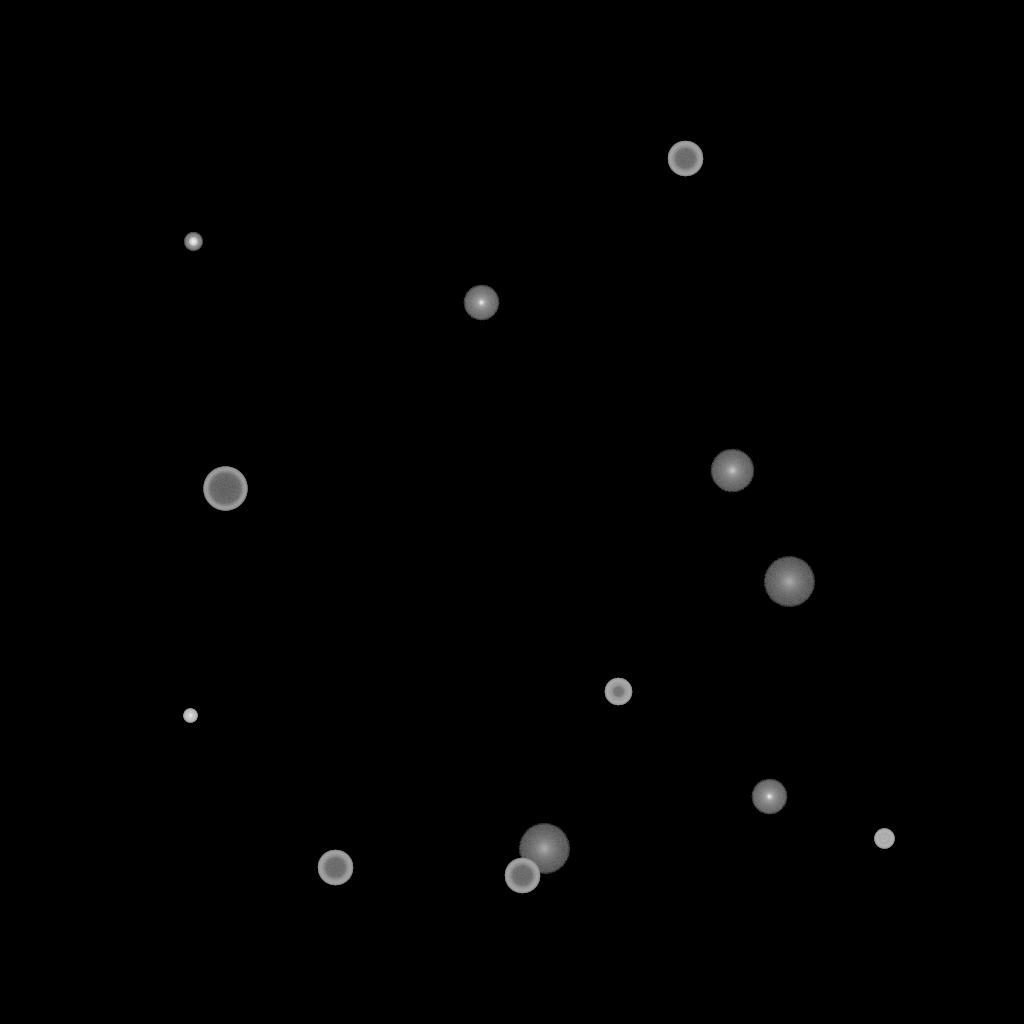depth:-20: (184, 233, 202, 251)
depth:-30: (183, 709, 197, 723)
depth:-40: (874, 829, 894, 849)
depth:-50: (604, 678, 632, 706)
depth:-60: (667, 141, 703, 177), (317, 850, 353, 886), (504, 858, 540, 894)
depth:-70: (203, 467, 247, 511)
depth:0: (751, 779, 787, 815), (463, 285, 499, 321)
depth:10: (710, 449, 754, 493)
depth:20: (763, 557, 815, 607), (518, 824, 570, 874)
